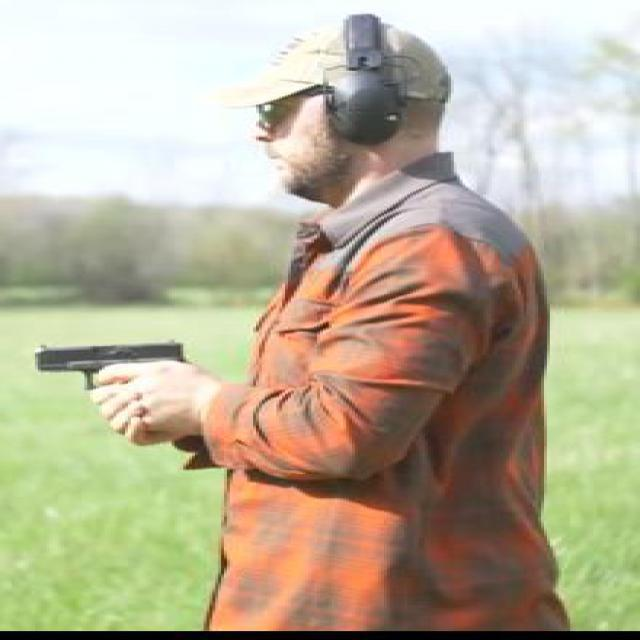Gun: (32, 337, 195, 420)
